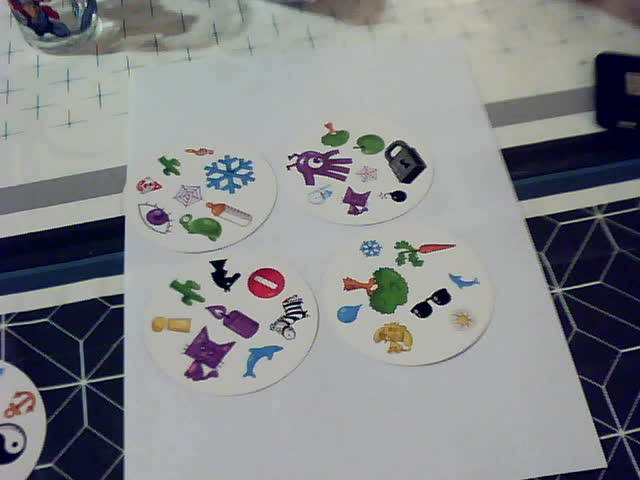ancre: (1, 386, 42, 422)
arbre: (339, 265, 412, 315), (316, 117, 353, 150)
biberon: (201, 200, 256, 230)
bombe: (377, 187, 412, 204)
bonhomme_neige: (301, 180, 335, 206)
bougie: (204, 300, 262, 342)
cactus: (163, 275, 207, 309), (153, 150, 186, 178)
cadenas: (380, 137, 431, 187)
carotte: (389, 237, 459, 268)
chat: (180, 327, 237, 382), (339, 183, 381, 218)
cheval: (204, 256, 242, 297)
chien: (370, 317, 415, 357)
clown: (128, 172, 166, 196)
dauphin: (240, 341, 287, 379), (445, 269, 483, 293)
dooble: (283, 146, 356, 186)
fleur: (449, 303, 479, 333)
flocon: (200, 153, 259, 193), (356, 237, 386, 260)
goutte: (335, 298, 366, 326)
lunette: (408, 286, 454, 321)
oeuil: (132, 198, 177, 238)
point_exclamation: (149, 313, 195, 336)
pomme: (350, 131, 387, 158)
sens_interdit: (246, 265, 287, 300)
toile: (170, 179, 206, 208)
tortue: (176, 210, 225, 244)
ying_yang: (1, 422, 29, 471)
zebre: (266, 293, 312, 343)
